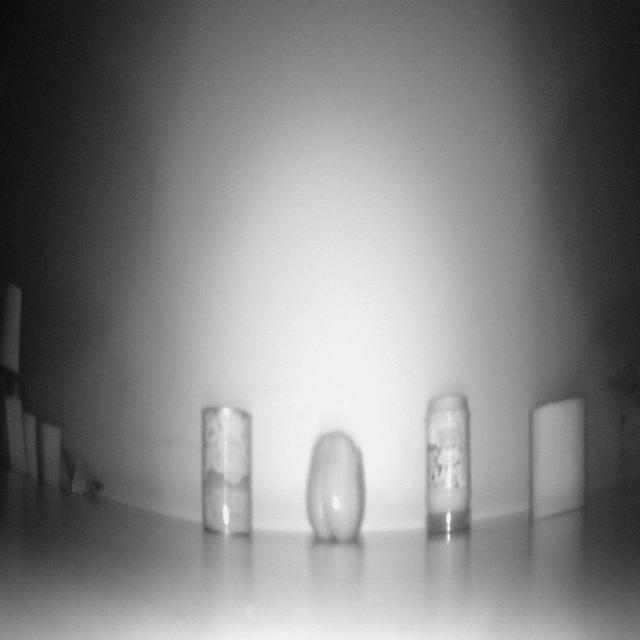targets: (528, 398, 590, 518), (200, 408, 253, 533), (427, 398, 471, 535), (310, 432, 362, 536), (3, 401, 65, 488), (0, 289, 25, 393)
